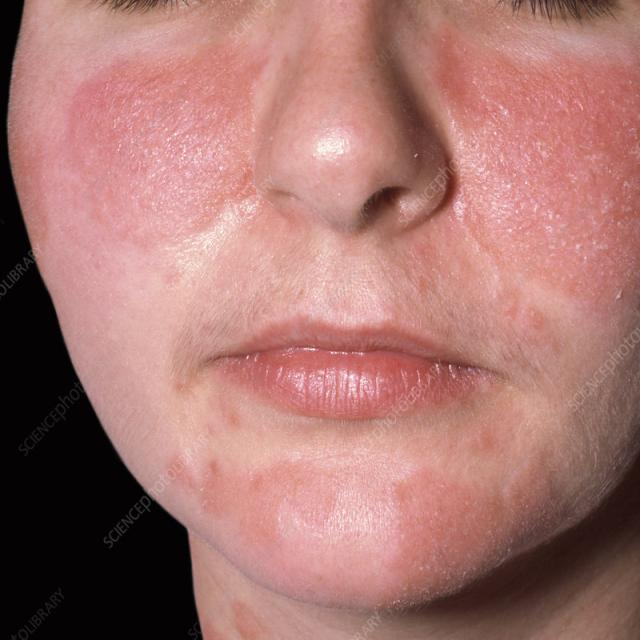Skin-Redness: (424, 19, 640, 315), (59, 45, 282, 257), (387, 454, 577, 613), (162, 444, 336, 544)
